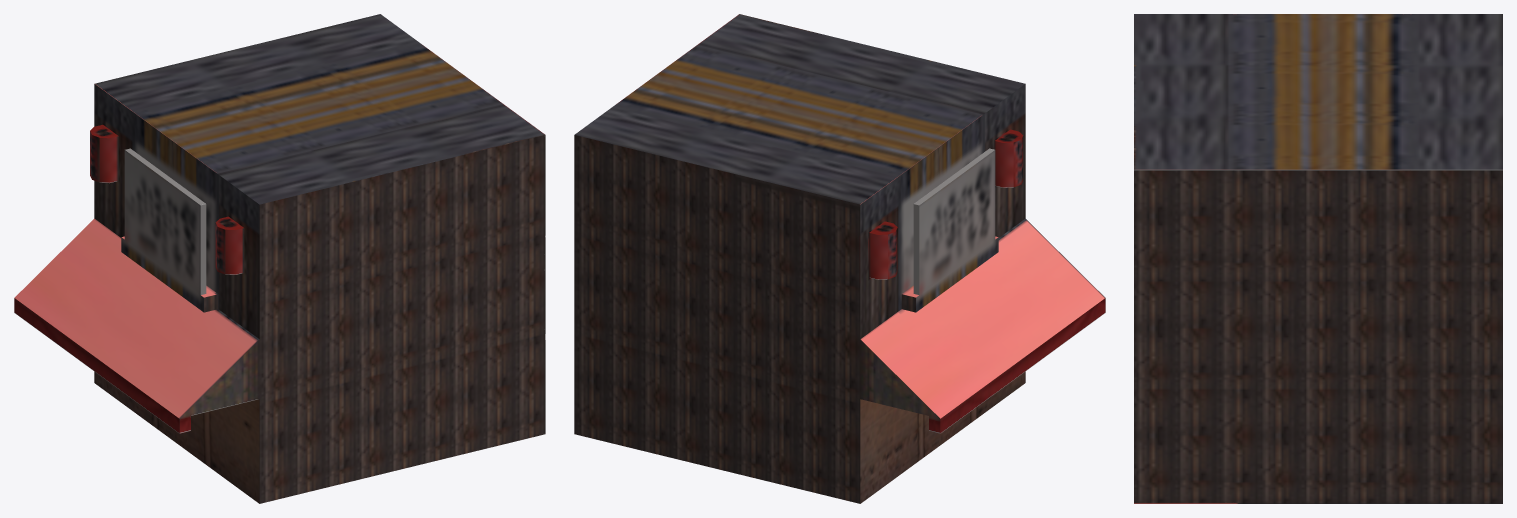
The model's file is takoyaki.FBX.
3 views of the same model, side by side, from view 1: azimuth 30°, elevation 25°; view 2: azimuth 150°, elevation 25°; view 3: azimuth 270°, elevation 25° (orthographic). The views are drawn at different scales.
Parts seen in each view (by area): view 1: Box001; view 2: Box001; view 3: Box001.
Part boxes in pixels (<box>): Box001: <box>14,14,545,503</box>; Box001: <box>574,14,1105,503</box>; Box001: <box>1134,14,1502,503</box>.
Bounding box in the file's own units: 128 × 100 × 100.
